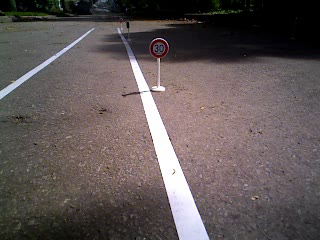limit 30: (148, 36, 171, 60)
